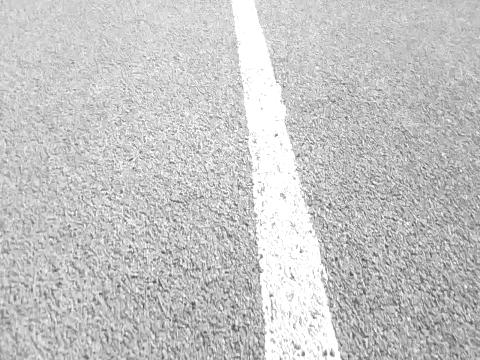Lines: (231, 0, 344, 360)
